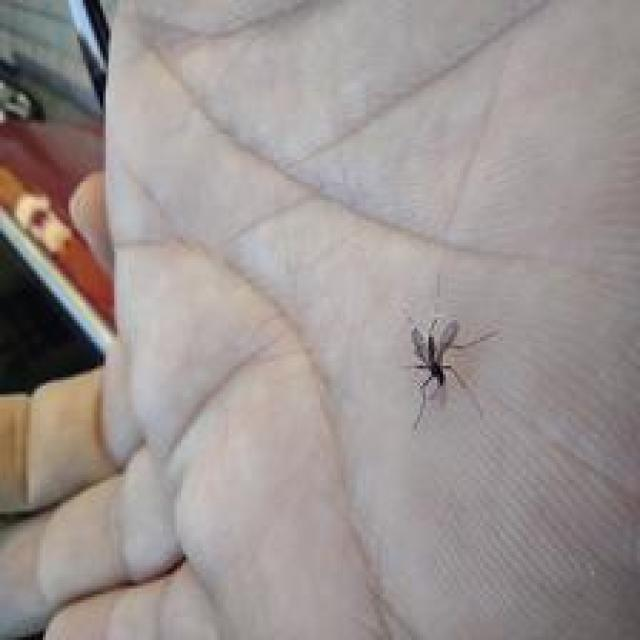Aedes albopictus: (402, 314, 498, 432)
